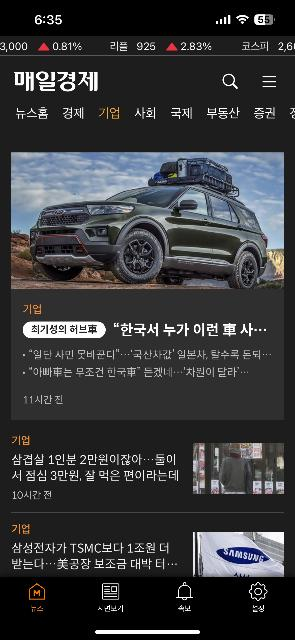Bottom_Navigation: (0, 577, 295, 639)
Card: (11, 150, 284, 420)
Icon: (176, 582, 194, 600), (250, 582, 268, 600), (28, 582, 45, 600), (102, 584, 120, 600), (223, 73, 238, 89), (262, 74, 278, 88)
Image: (11, 153, 285, 290), (193, 443, 285, 493), (194, 531, 284, 577), (38, 41, 50, 50), (167, 44, 179, 50)
List: (2, 428, 295, 573)
Multi_Tab: (14, 106, 295, 119)
Text: (12, 454, 180, 482), (11, 542, 178, 570), (22, 348, 272, 360), (114, 321, 268, 337), (22, 367, 250, 377), (13, 72, 99, 92), (25, 394, 64, 404), (16, 107, 48, 119), (13, 490, 51, 500), (1, 40, 27, 54), (208, 108, 240, 119), (62, 107, 84, 119), (98, 107, 120, 119), (134, 108, 156, 119), (170, 108, 192, 119), (182, 43, 212, 51), (256, 107, 276, 119), (54, 42, 82, 50), (244, 41, 268, 50), (23, 304, 41, 314), (11, 524, 29, 534), (110, 41, 128, 50), (98, 606, 124, 612), (278, 42, 295, 51), (12, 436, 30, 444), (137, 42, 155, 49), (179, 604, 191, 612), (31, 605, 43, 611), (253, 605, 265, 611)
TextButton: (23, 322, 107, 338)
TextImageButton: (98, 582, 124, 614), (250, 582, 268, 612), (28, 582, 45, 612), (177, 582, 193, 612)
Toolbar: (1, 69, 295, 91)
UpperTaskBar: (0, 1, 295, 37)
